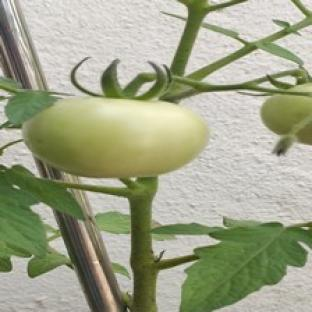Tomato: (23, 98, 208, 178), (261, 95, 311, 135)
